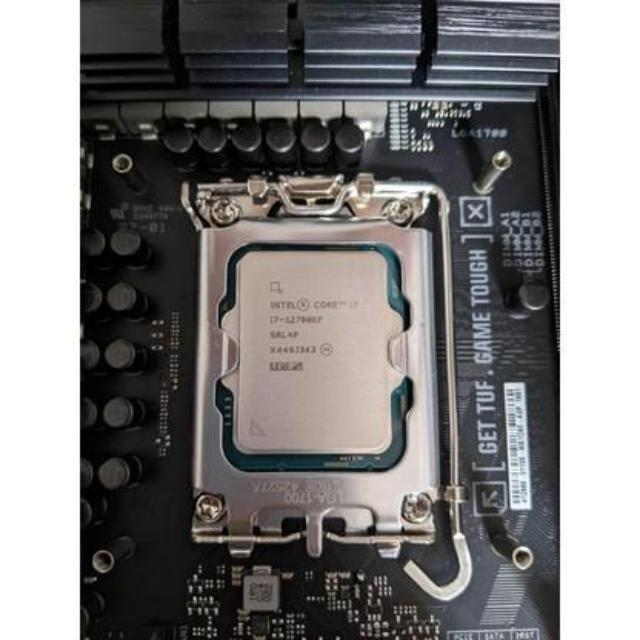CPU: (226, 247, 400, 467)
